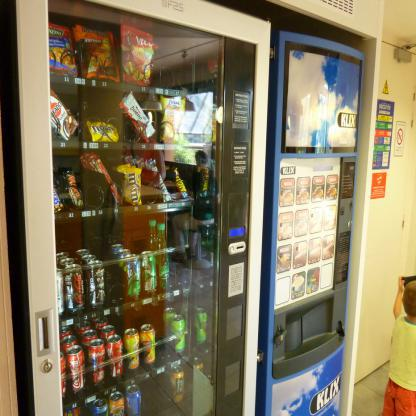door: (348, 44, 416, 390)
hinged: (402, 212, 405, 228), (410, 118, 414, 129), (412, 92, 416, 102)
